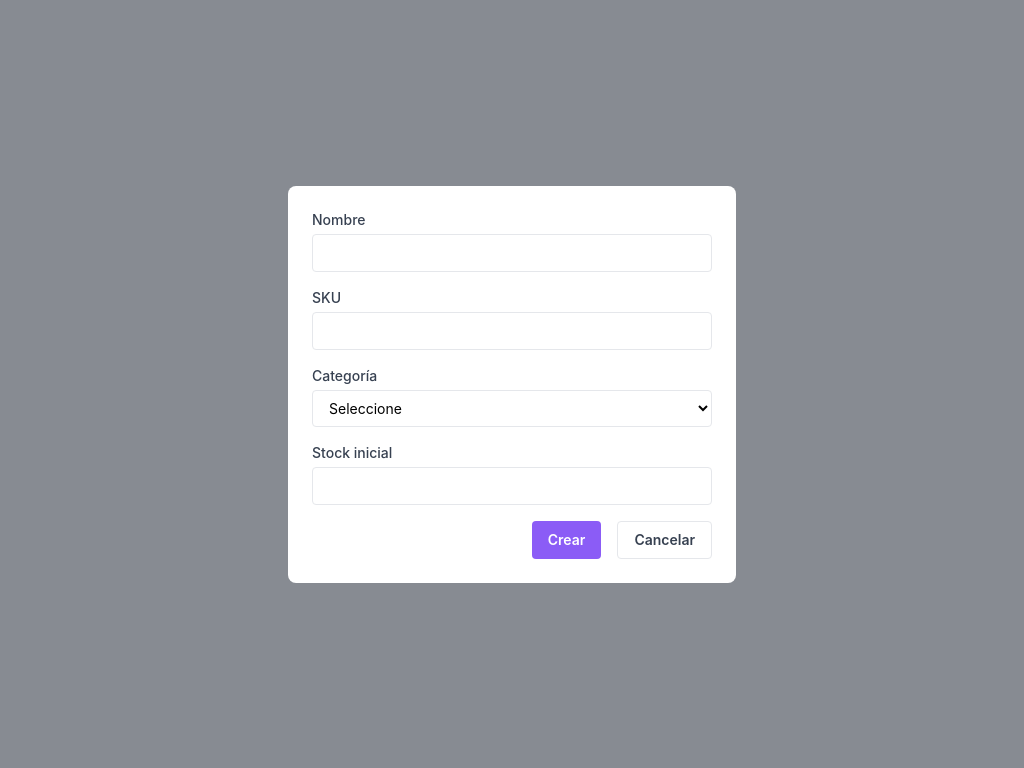
it: T15 — Tokens diseño 010 — RF-1/RF-3/RF-4 (botón primario, input error, modal) › input con error usa border-error-600 y label usa text-neutral-700, sin error usa border-neutral-200
Note: disparar validación
What coordinates should you click on to do the following:
click the button "Crear"
I would click on:
 (567, 540)
Its box is x1=532 y1=520 x2=601 y2=558.
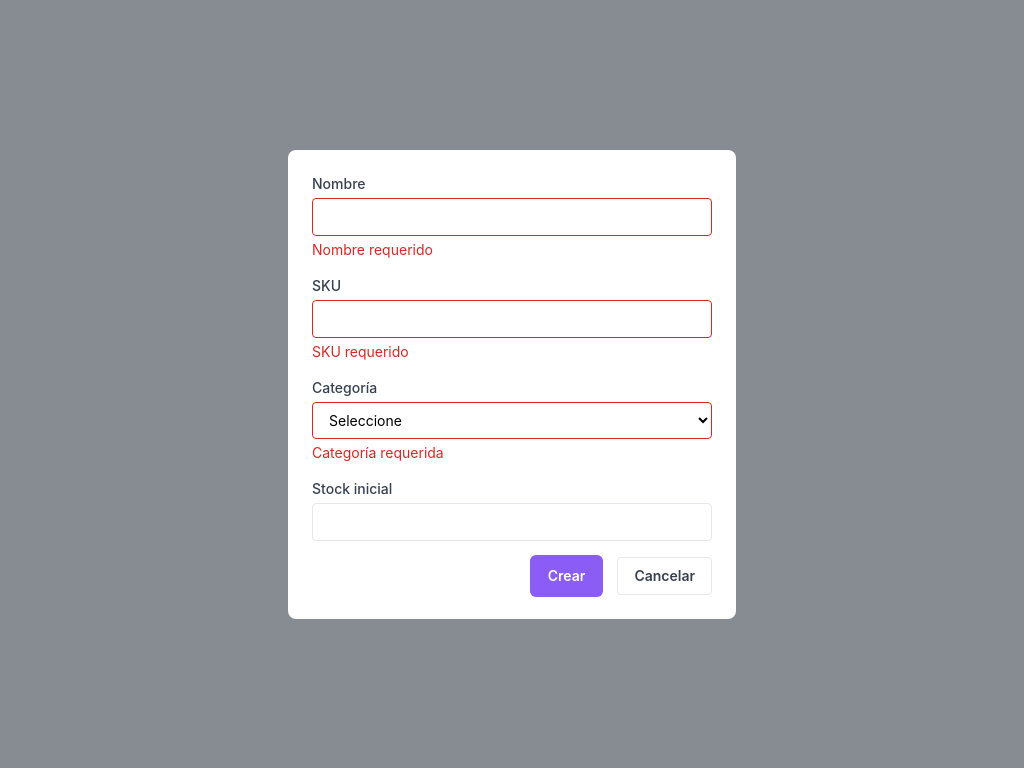
Now the text "Nombre requerido" is shown, box x1=312 y1=240 x2=433 y2=258
